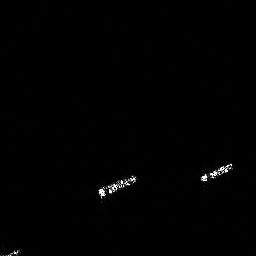ship: (96, 174, 138, 200), (199, 162, 233, 183)
